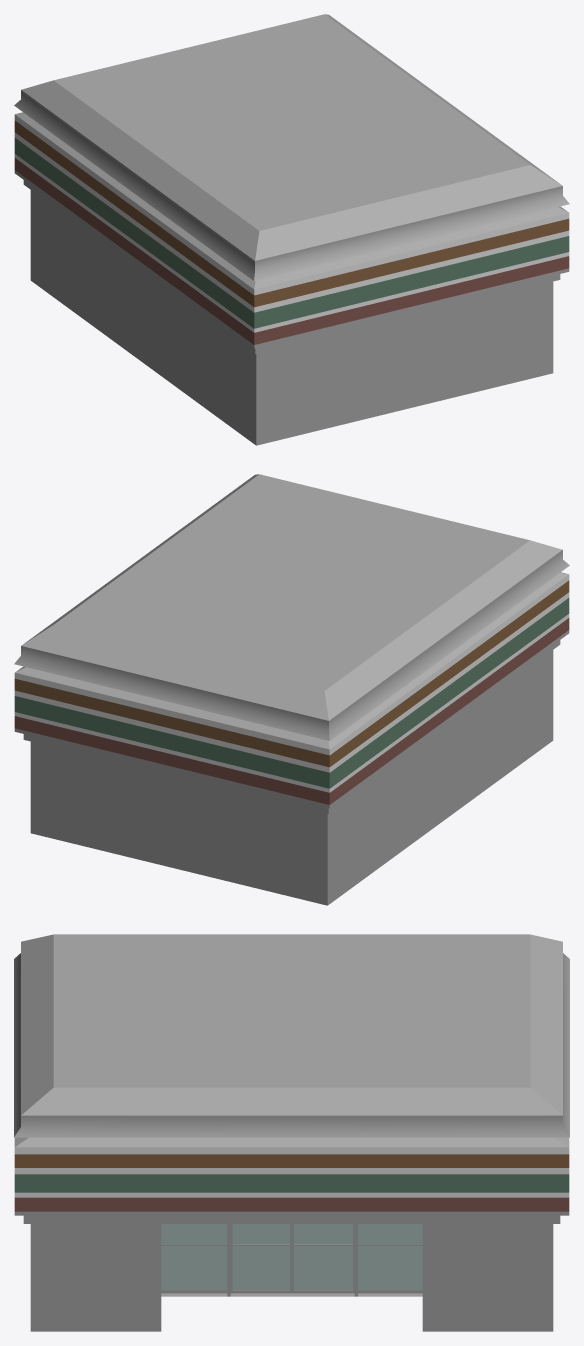
3 views of the same model, one above another, from view 1: azimuth 30°, elevation 25°; view 2: azimuth 150°, elevation 25°; view 3: azimuth 270°, elevation 25° (orthographic). The views are drawn at different scales.
Parts seen in each view (by area): view 1: pCube1; view 2: pCube1; view 3: pCube1.
Boxes of the visible parts, <box> form: pCube1: <box>14,14,569,445</box>; pCube1: <box>14,474,569,905</box>; pCube1: <box>14,934,569,1331</box>.
Size of the model in its own units: 18.09 by 11.18 by 23.8.
